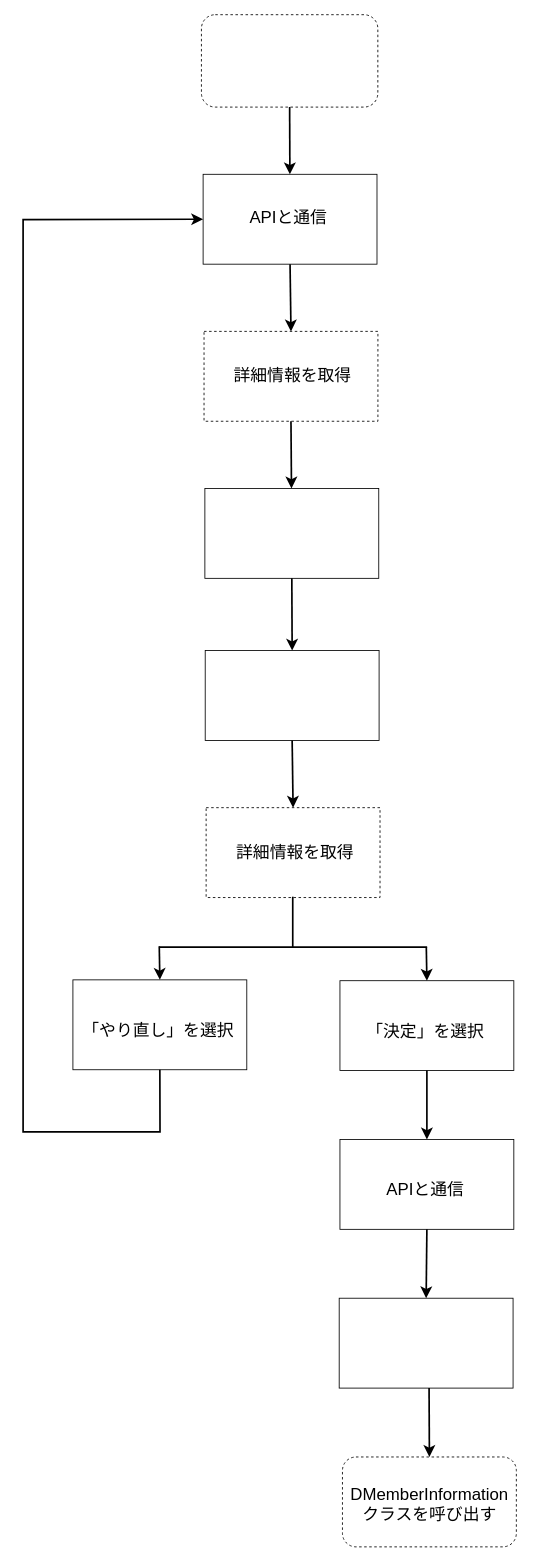
The diagram is 549 pixels wide and 1562 high, and some of its shapes have lost their labels. The shapes that lost their labels are listed below. From the top down, each one's centre as x and y in pixels, then its label:
At (x=289, y=60): "DMemberInformation クラス呼び出し".
At (x=291, y=533): "会員情報確認画面 表示".
At (x=291, y=695): "ユーザが情報を入力".
At (x=425, y=1342): "DBの更新".
